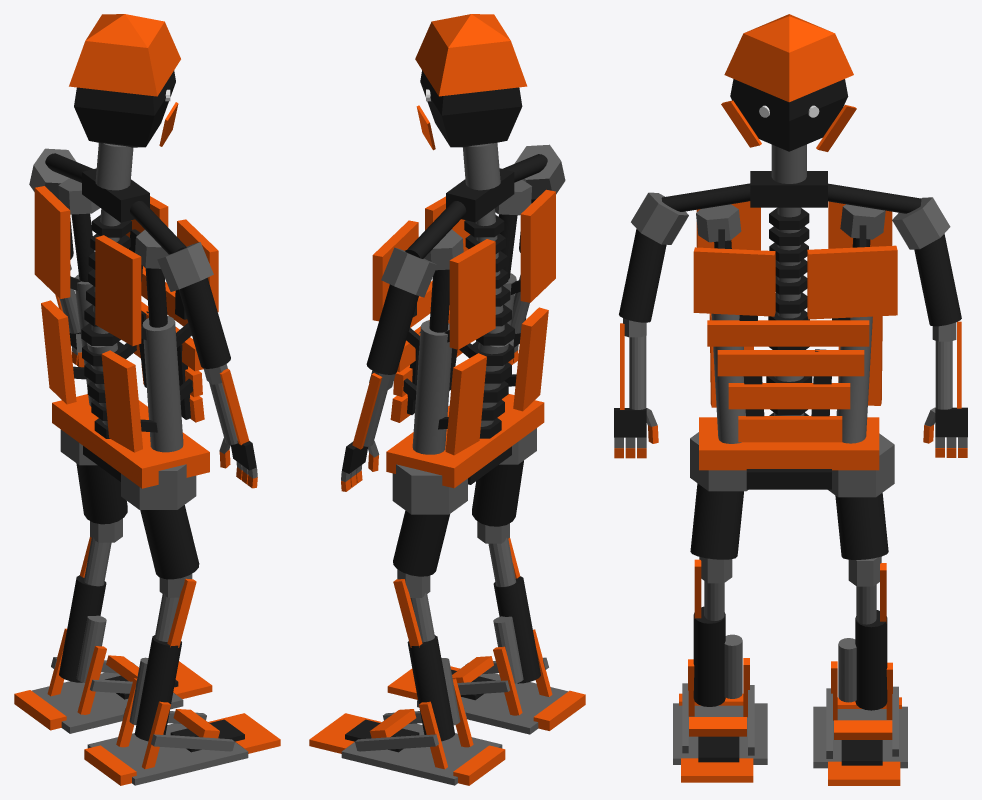
The model's file is player.glb.
3 renders of one model, left to right at view 1: azimuth 30°, elevation 25°; view 2: azimuth 150°, elevation 25°; view 3: azimuth 270°, elevation 25°, orthographic.
Visible parts, largest first — view 1: Sphere.Hat, Cube.021, Sphere.Brain, Cube.028, Cylinder.026, Cube.027, Cube.Base, Cylinder.004, Cube.023, Cube.010, Cylinder.037, Cylinder (+44 smaller); view 2: Sphere.Hat, Cube.021, Sphere.Brain, Cube.027, Cylinder.027, Cube.028, Cube.010, Cube.024, Cube.Base, Cylinder.010, Cylinder.009, Cylinder.038 (+46 smaller); view 3: Sphere.Hat, Cube.032, Cube.021, Cube.033, Sphere.Brain, Cube.036, Cube.031, Cylinder.004, Cube.030, Cylinder.009, Cylinder.005, Cube.022 (+40 smaller).
Boxes of the visible parts, left/top/right/bottom form: Sphere.Hat: left=69, top=14, right=180, bottom=96; Cube.021: left=52, top=394, right=209, bottom=488; Sphere.Brain: left=74, top=70, right=175, bottom=147; Cube.028: left=95, top=235, right=141, bottom=346; Cylinder.026: left=142, top=316, right=183, bottom=452; Cube.027: left=34, top=186, right=70, bottom=298; Cube.Base: left=87, top=721, right=248, bottom=785; Cylinder.004: left=140, top=505, right=199, bottom=579; Cube.023: left=101, top=350, right=142, bottom=452; Cube.010: left=32, top=666, right=183, bottom=733; Cylinder.037: left=179, top=277, right=230, bottom=368; Cylinder: left=134, top=635, right=181, bottom=741; Sphere.Hat: left=415, top=14, right=527, bottom=96; Cube.021: left=386, top=394, right=544, bottom=488; Sphere.Brain: left=420, top=70, right=522, bottom=147; Cube.027: left=449, top=239, right=495, bottom=349; Cylinder.027: left=412, top=320, right=451, bottom=454; Cube.028: left=520, top=189, right=555, bottom=302; Cube.010: left=341, top=721, right=502, bottom=785; Cube.024: left=445, top=353, right=486, bottom=455; Cube.Base: left=417, top=666, right=568, bottom=734; Cylinder.010: left=392, top=464, right=467, bottom=514; Cylinder.009: left=393, top=510, right=449, bottom=576; Cylinder.038: left=366, top=284, right=418, bottom=374; Sphere.Hat: left=724, top=14, right=853, bottom=102; Cube.032: left=807, top=245, right=897, bottom=319; Cube.021: left=699, top=417, right=879, bottom=470; Cube.033: left=693, top=247, right=775, bottom=316; Sphere.Brain: left=730, top=79, right=848, bottom=151; Cube.036: left=707, top=320, right=869, bottom=346; Cube.031: left=717, top=350, right=864, bottom=376; Cylinder.004: left=690, top=483, right=743, bottom=559; Cube.030: left=728, top=383, right=850, bottom=409; Cylinder.009: left=835, top=493, right=888, bottom=559; Cylinder.005: left=855, top=610, right=887, bottom=710; Cube.022: left=738, top=416, right=842, bottom=442.
Size of the model in its own units: 0.5078 by 2.1 by 0.9372.
